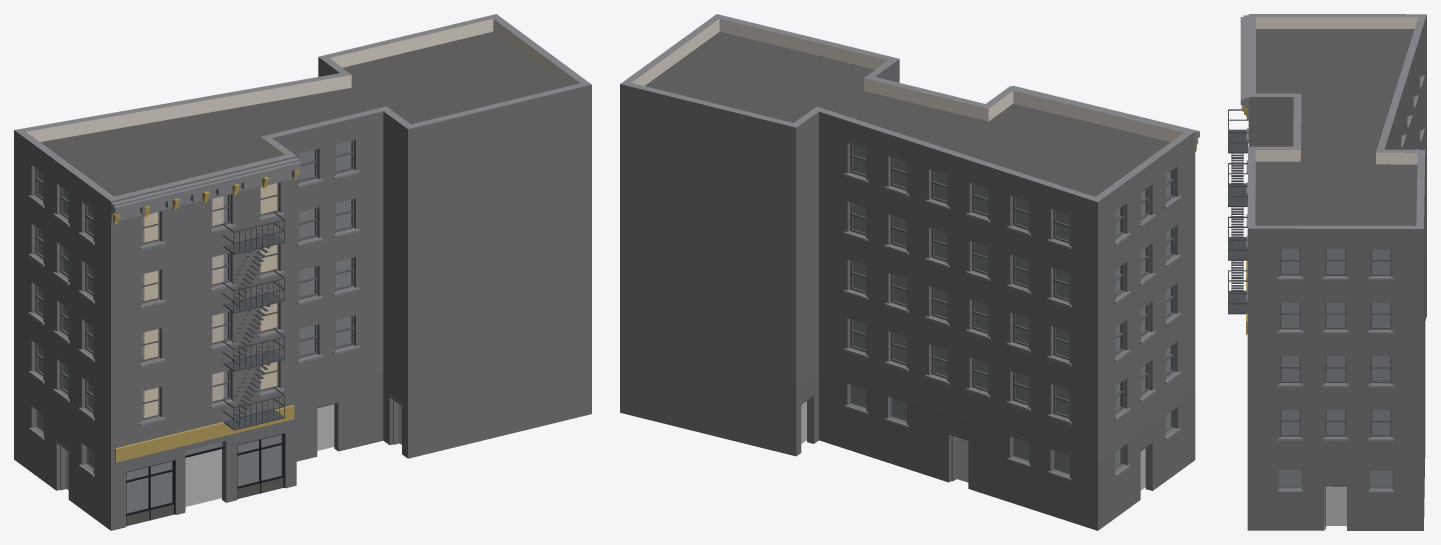
The model's file is exterior.glb.
3 renders of one model, left to right at view 1: azimuth 30°, elevation 25°; view 2: azimuth 150°, elevation 25°; view 3: azimuth 270°, elevation 25°, orthographic. The views are drawn at different scales.
Visible parts, largest first — view 1: shell, roof, shadow-proxy, glazing, trim, fire-escape, frames, facade-r10, storefront, front-dressing; view 2: shell, roof, glazing, shadow-proxy, frames, trim; view 3: shell, roof, shadow-proxy, glazing, fire-escape, trim, frames.
Boxes of the visible parts, box(x1,y1,x2,y2) form: shell: box(14, 14, 591, 530); roof: box(40, 31, 566, 196); shadow-proxy: box(39, 141, 401, 512); glazing: box(36, 141, 351, 513); trim: box(28, 157, 359, 476); fire-escape: box(222, 211, 285, 430); frames: box(35, 140, 353, 420); facade-r10: box(144, 183, 277, 417); storefront: box(55, 394, 402, 526); front-dressing: box(115, 405, 294, 462); shell: box(620, 14, 1195, 530); roof: box(645, 31, 1170, 196); glazing: box(851, 145, 1172, 474); shadow-proxy: box(801, 145, 1170, 490); frames: box(850, 144, 1173, 418); trim: box(844, 85, 1199, 480); shell: box(1247, 14, 1426, 530); roof: box(1255, 29, 1417, 225); shadow-proxy: box(1279, 249, 1391, 526); glazing: box(1279, 249, 1392, 488); fire-escape: box(1228, 109, 1248, 314); trim: box(1240, 15, 1424, 492); frames: box(1280, 249, 1391, 436).
Size of the model in its own units: 22.96 by 14.92 by 8.91.
